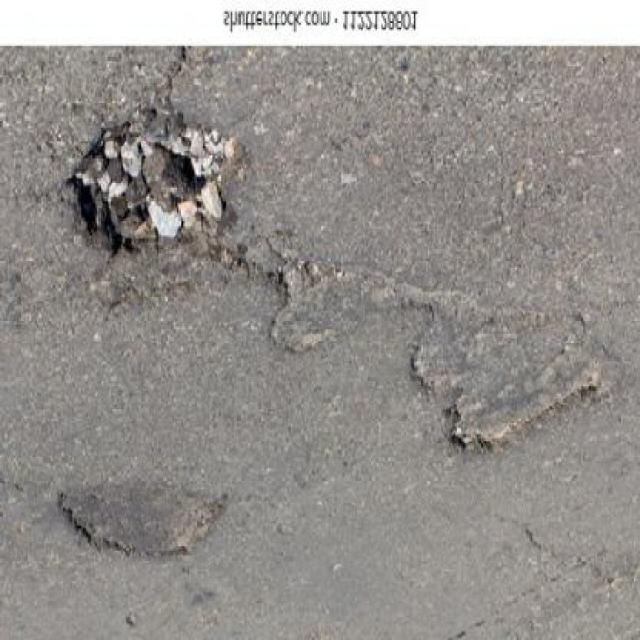pothole: (41, 95, 284, 338)
